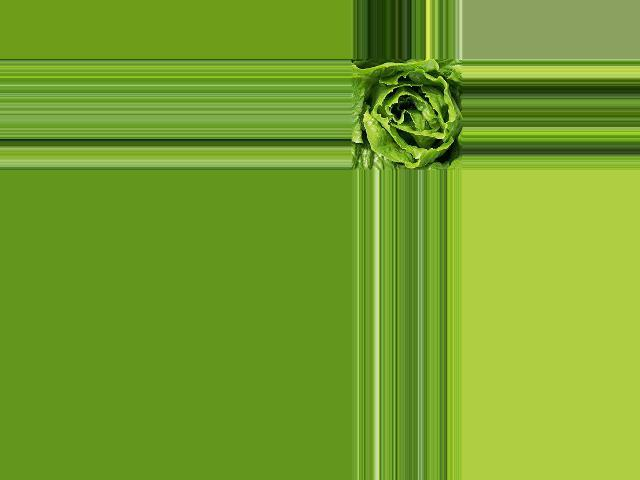lettuce: (350, 60, 461, 168)
